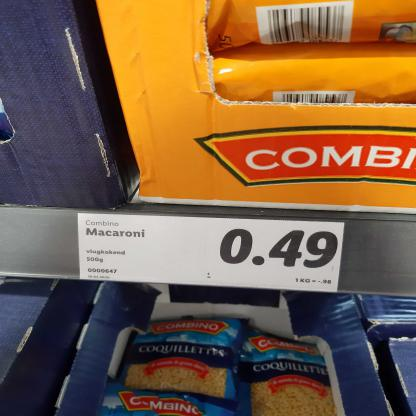prtg: (78, 214, 345, 292)
